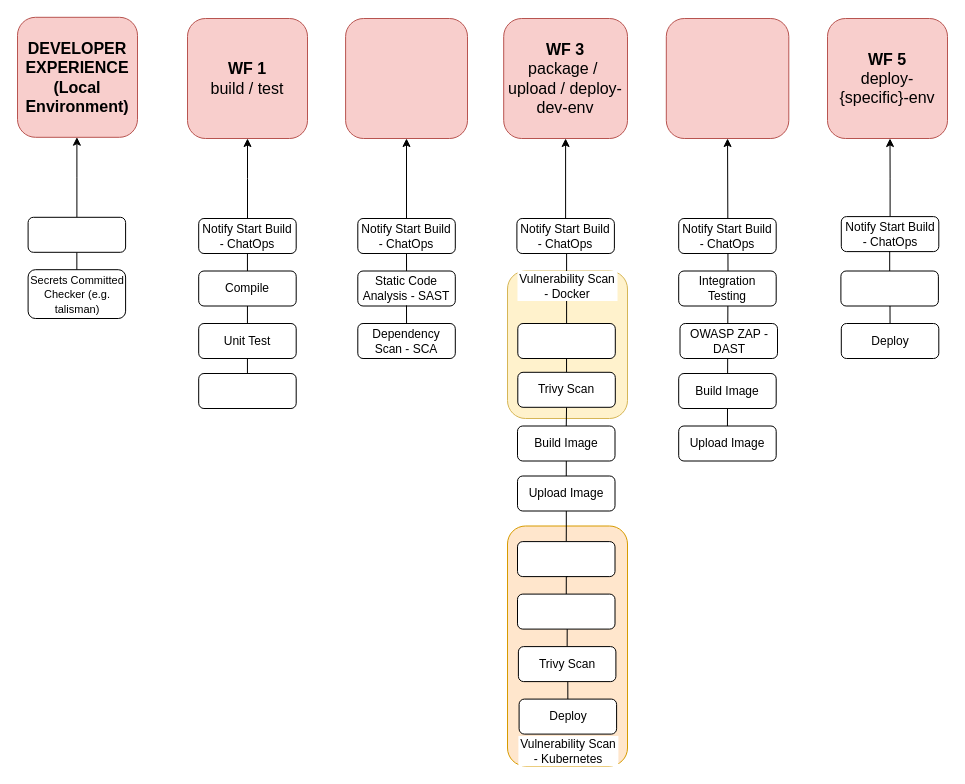
Image size: 965x784. Some labels were removed from this diagram. The centre of each missing label's shape, as x and y in pixels:
Kubesec Scan: point 565,559
Mutation Test: point 247,390
OPA Conftest: point 566,340
OPA Scan: point 565,611
Pick Environment: point 889,288
Security Plugins in any IDE: point 76,234
WF 2 pull request: point 406,78
WF 4 package / upload: point 727,78
